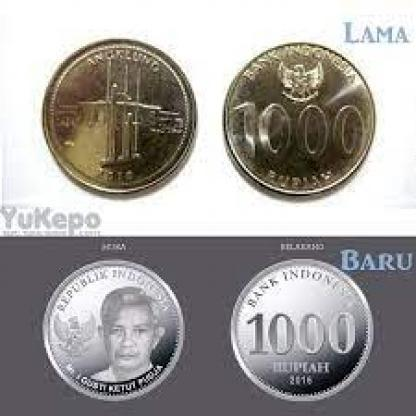coin_1000_e2010: (221, 40, 377, 203), (44, 37, 200, 195)
